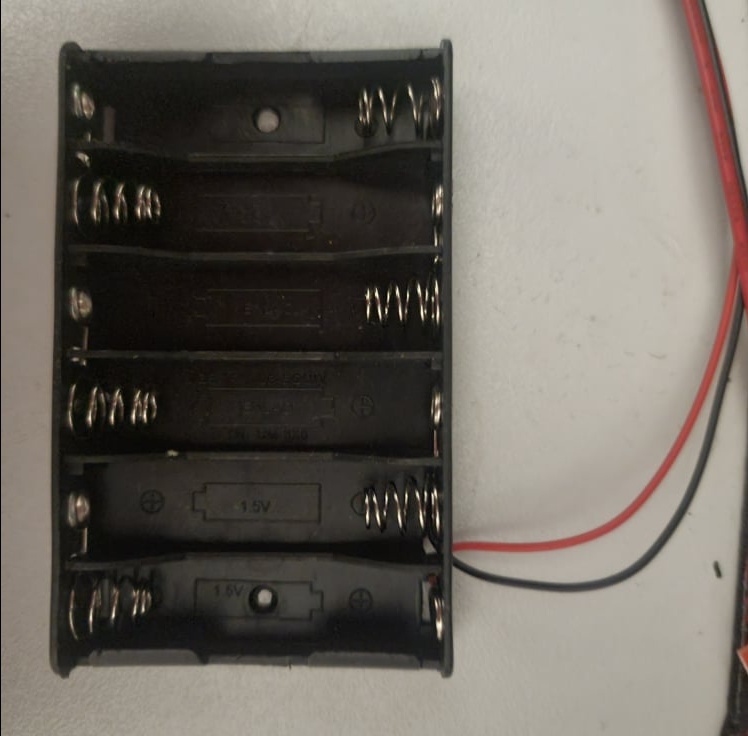BATTERY BOX: (45, 35, 457, 682)
